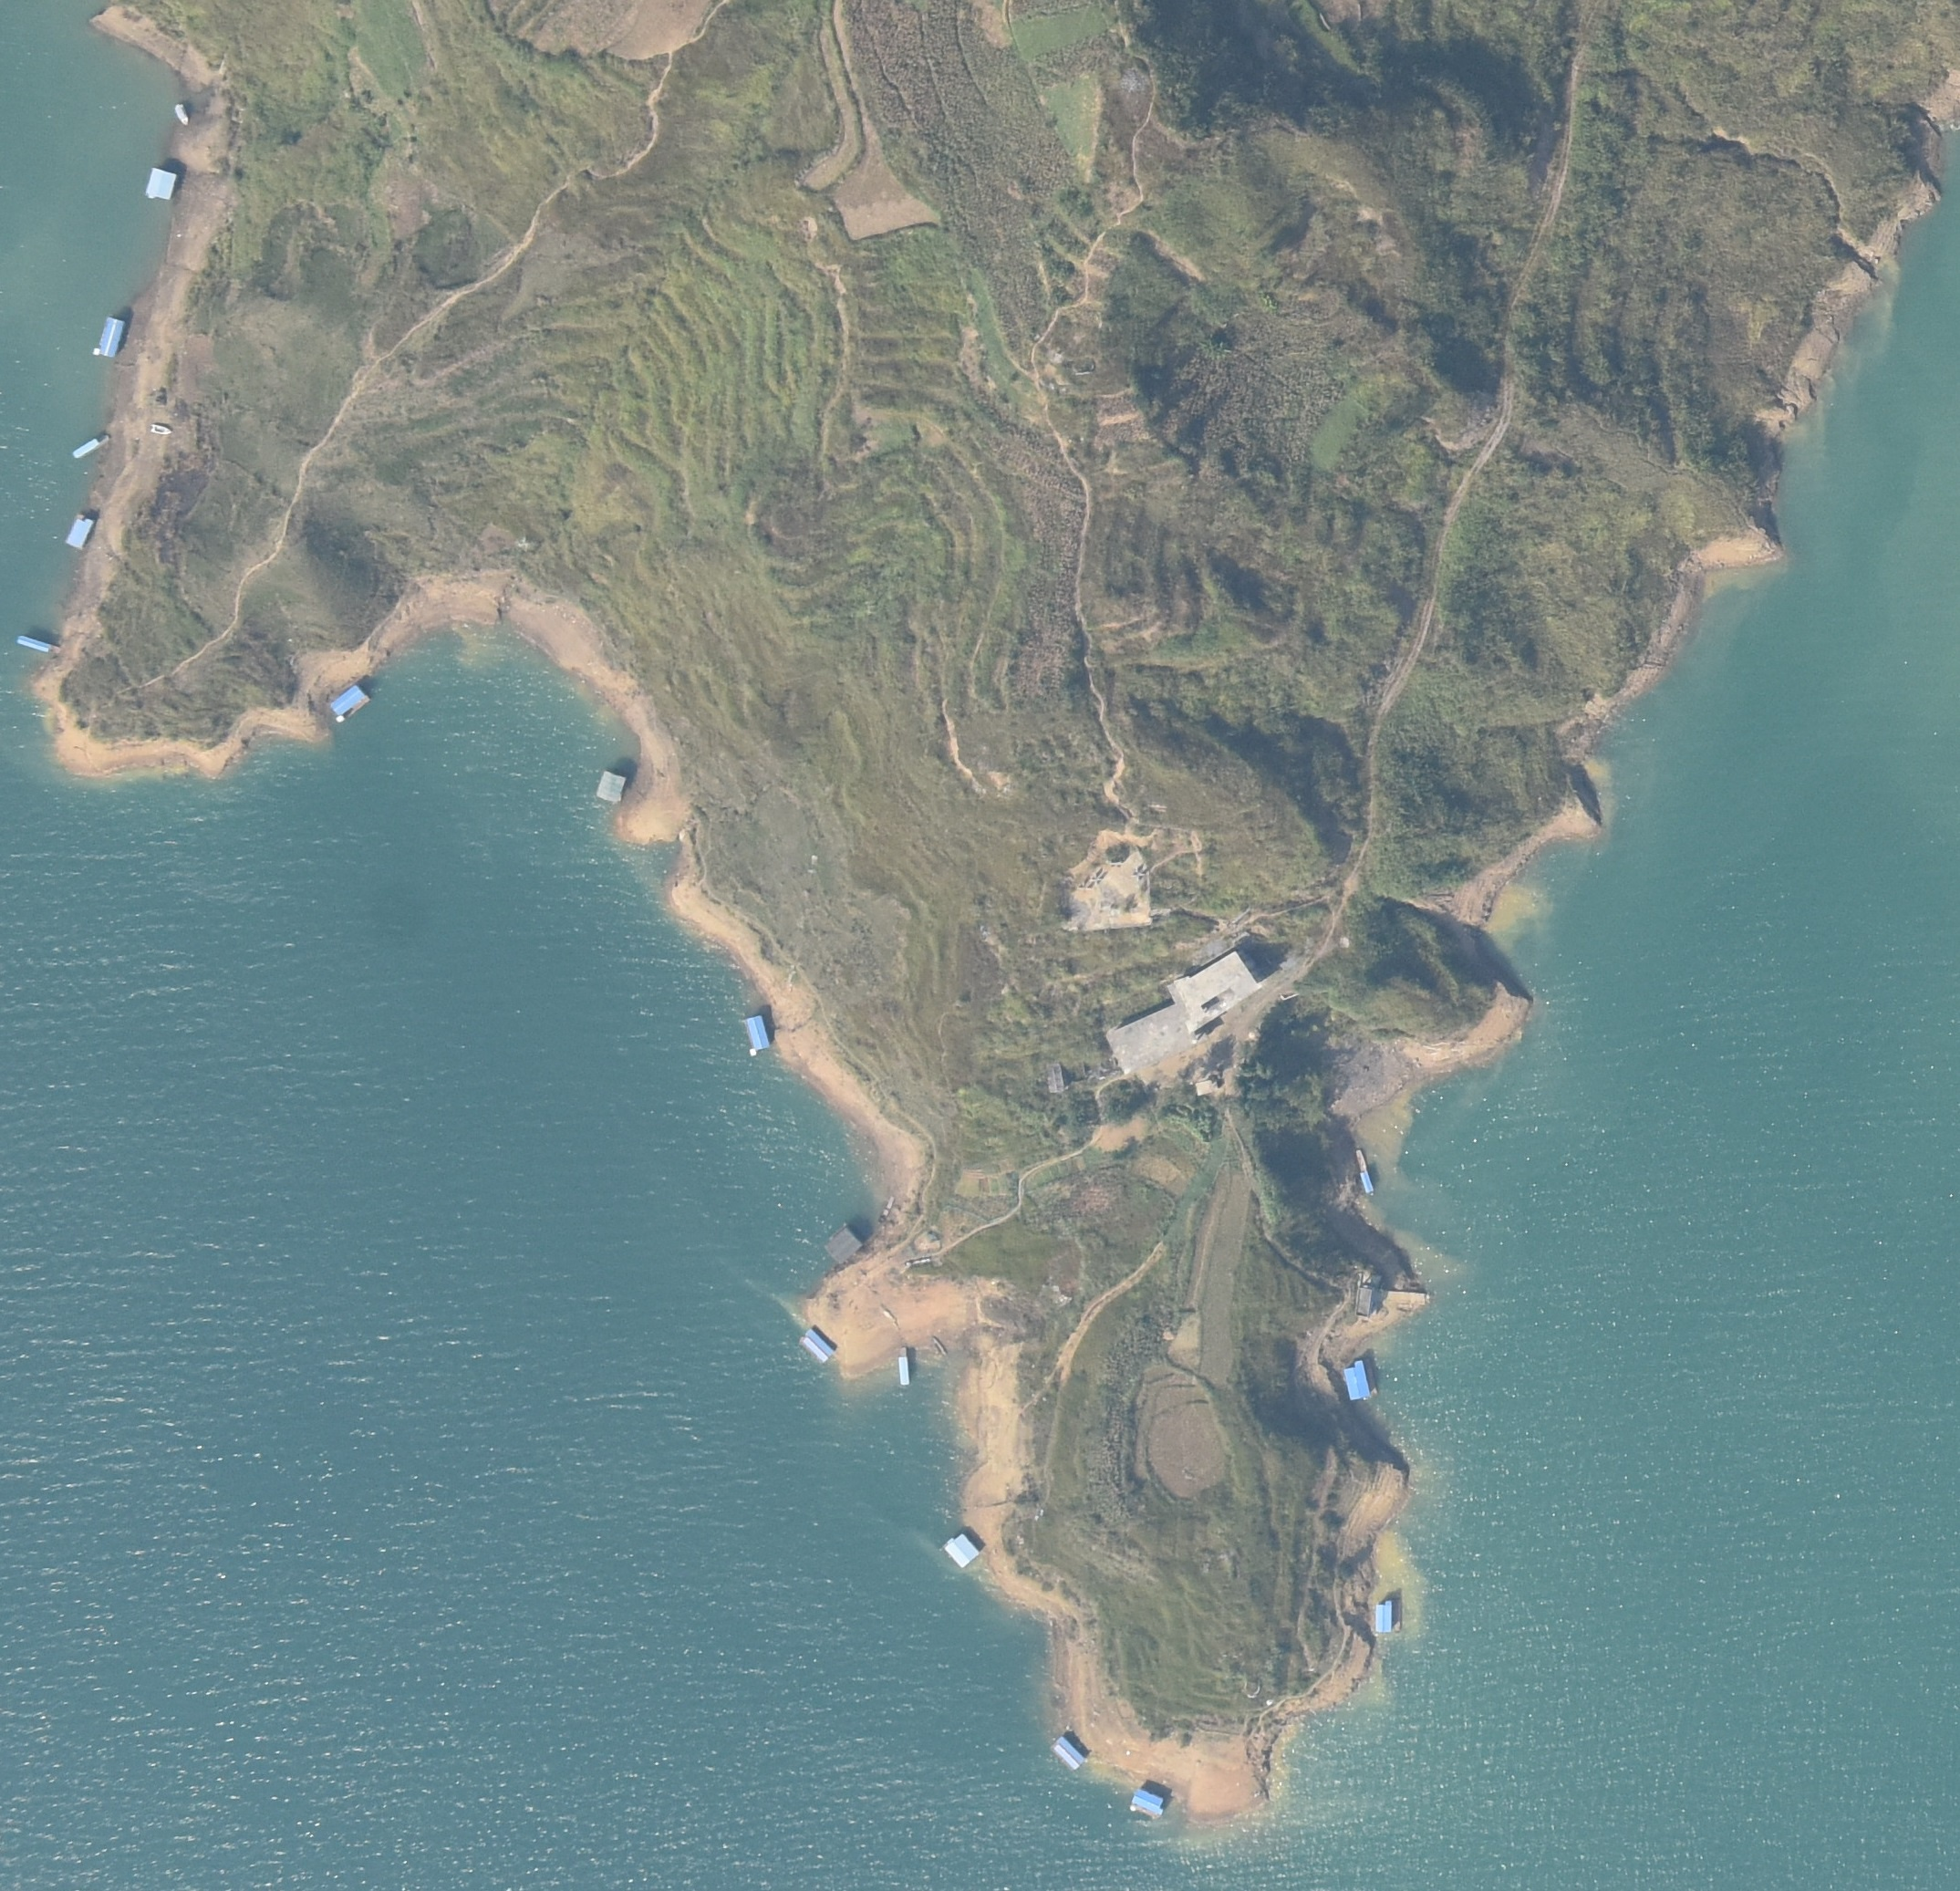building: (1171, 953, 1260, 1028), (1106, 1007, 1190, 1070), (1354, 1280, 1379, 1318)
prefabricated-house: (329, 685, 374, 723), (822, 1229, 863, 1266), (1344, 1357, 1375, 1399), (93, 315, 122, 359), (796, 1329, 833, 1364), (742, 1016, 772, 1058), (943, 1532, 978, 1567), (1052, 1735, 1085, 1772), (595, 769, 628, 804), (63, 513, 94, 550), (145, 168, 177, 203), (1130, 1788, 1165, 1816), (1375, 1599, 1393, 1635)
ship: (1354, 1149, 1379, 1198), (73, 431, 110, 462), (16, 636, 63, 655), (896, 1343, 913, 1388), (173, 102, 192, 124), (150, 422, 171, 438)
